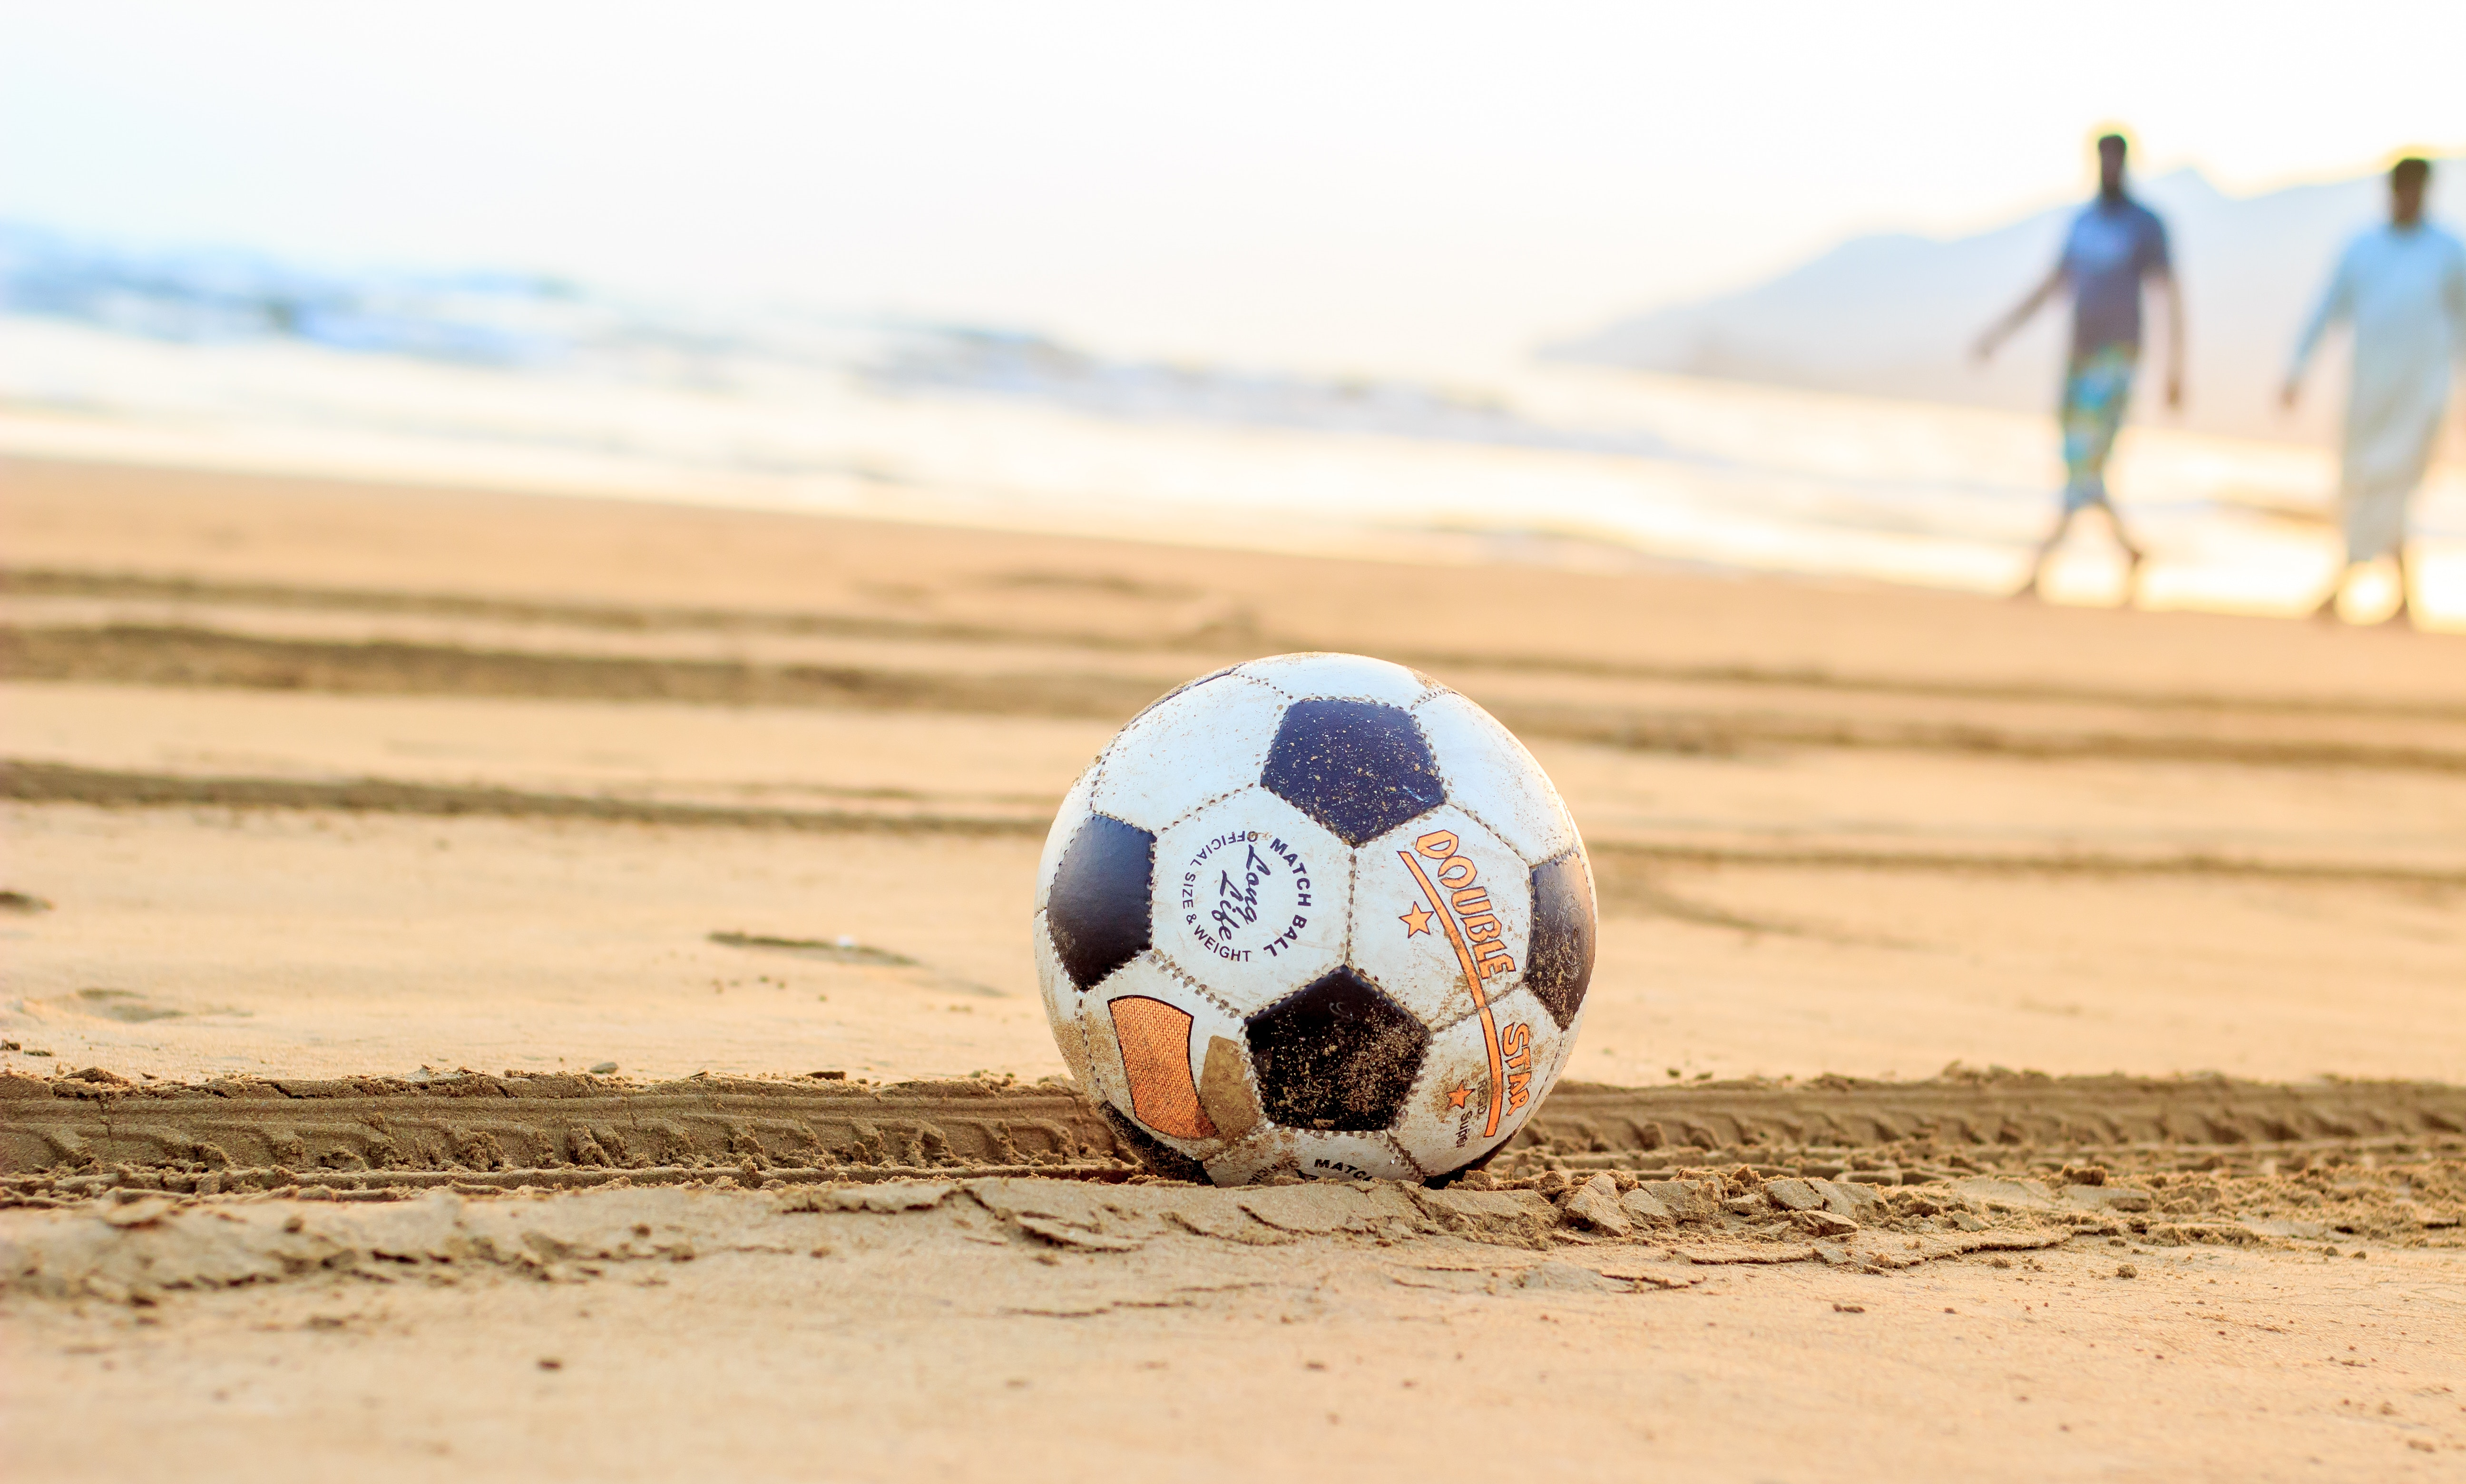soccer ball: (1011, 602, 1591, 1208)
